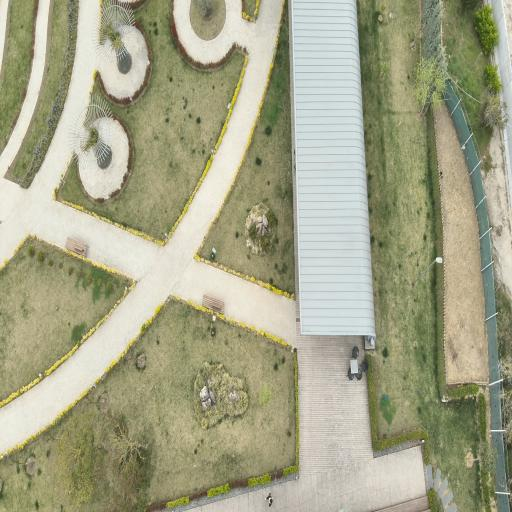person: (266, 494, 273, 506), (440, 172, 442, 178)
